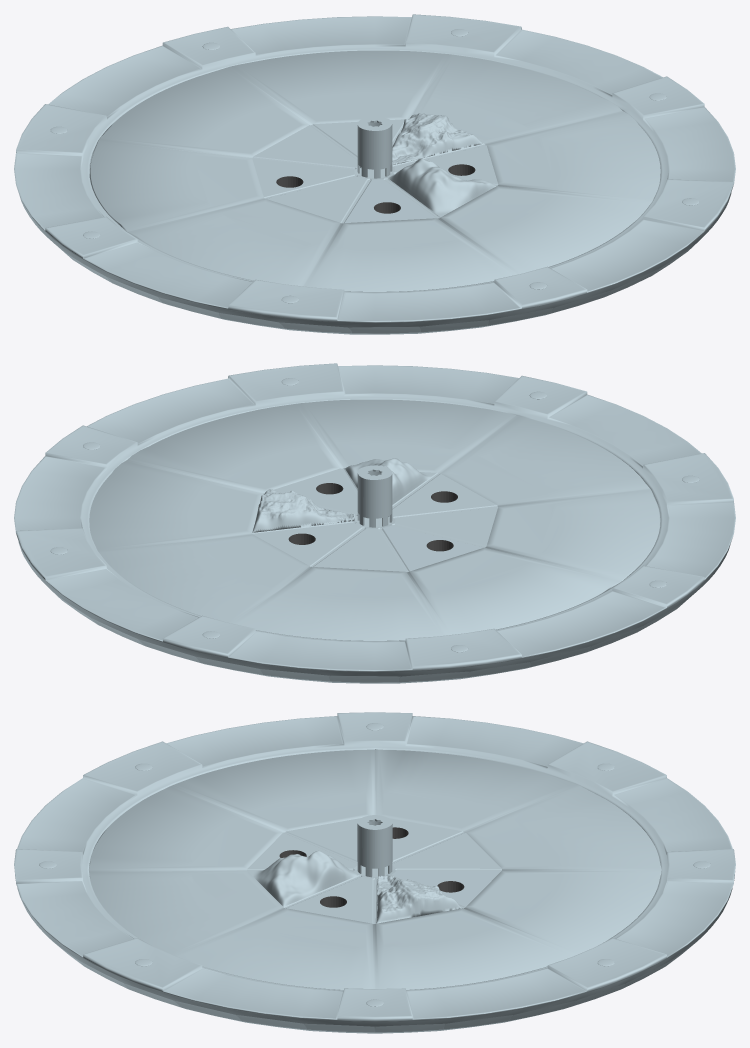
File: Map_2.fbx
3 views of the same model, one above another, from view 1: azimuth 30°, elevation 25°; view 2: azimuth 150°, elevation 25°; view 3: azimuth 270°, elevation 25° (orthographic).
Visible parts, largest first — view 1: BaseInt, BaseExt, Base; view 2: BaseInt, BaseExt, Base; view 3: BaseInt, BaseExt, Base.
Part boxes in pixels (<box>): BaseInt: <box>89,50,660,291</box>; BaseExt: <box>14,14,735,334</box>; Base: <box>252,113,498,223</box>; BaseInt: <box>89,399,660,640</box>; BaseExt: <box>14,363,735,683</box>; Base: <box>252,458,497,572</box>; BaseInt: <box>89,749,661,989</box>; BaseExt: <box>14,712,735,1033</box>; Base: <box>247,815,501,923</box>.
Size of the model in its own units: 14519 by 2331 by 14522.
